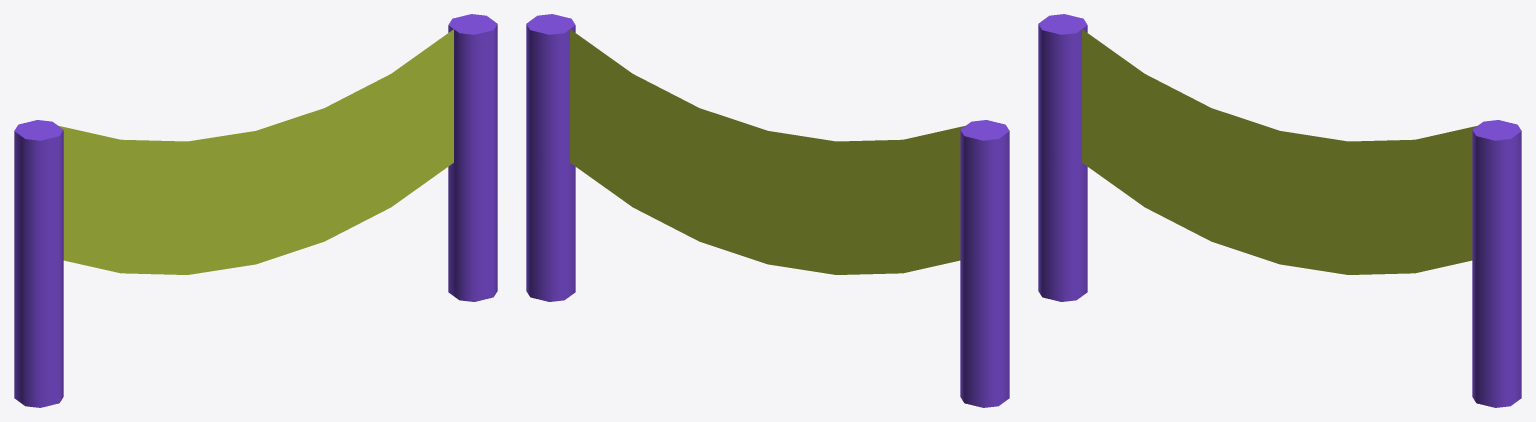
The model's file is banner_hanging.dae.
3 renders of one model, left to right at view 1: azimuth 30°, elevation 25°; view 2: azimuth 150°, elevation 25°; view 3: azimuth 330°, elevation 25°, orthographic.
Parts seen in each view (by area): view 1: banner_hanging; view 2: banner_hanging; view 3: banner_hanging.
Boxes of the visible parts, left/top/right/bottom form: banner_hanging: left=14, top=14, right=497, bottom=407; banner_hanging: left=526, top=14, right=1009, bottom=407; banner_hanging: left=1038, top=14, right=1521, bottom=407.
Size of the model in its own units: 0.925 by 0.075 by 0.5.
